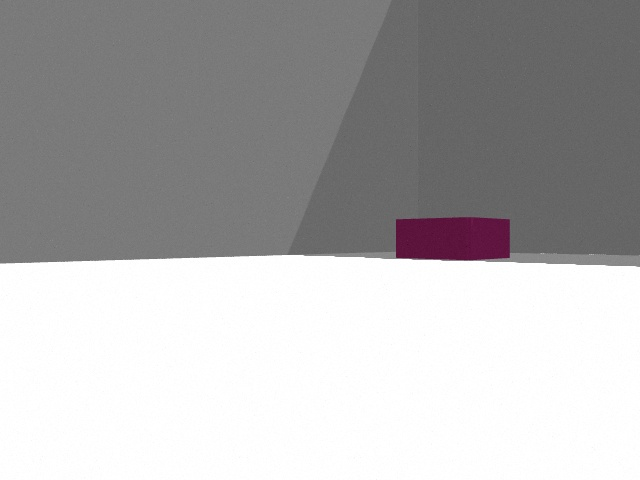red_drop_zone: (396, 217, 510, 260)
